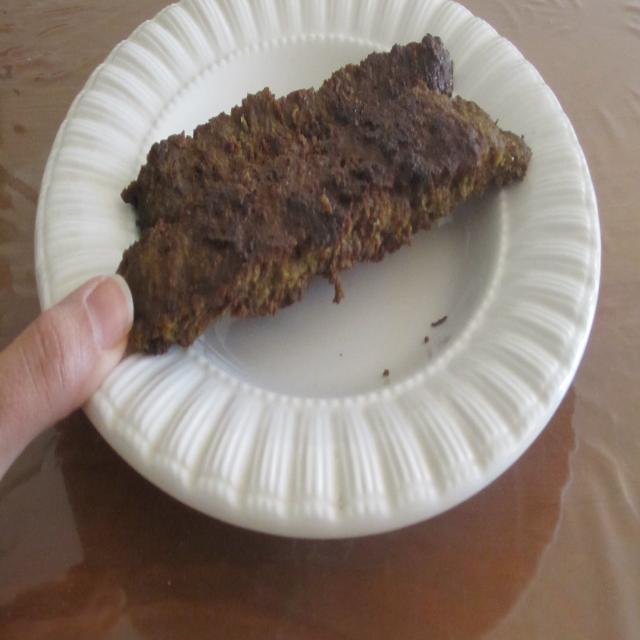cutlet: (89, 21, 545, 324)
